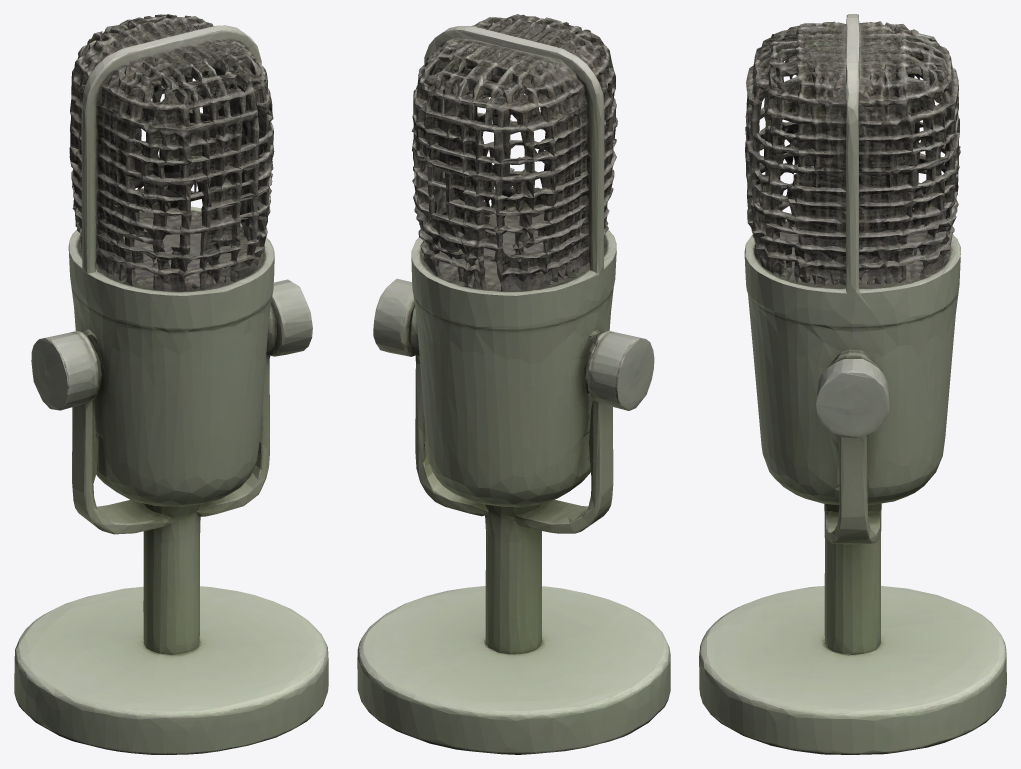
Rendered from mic.glb.
3 views of the same model, side by side, from view 1: azimuth 30°, elevation 25°; view 2: azimuth 150°, elevation 25°; view 3: azimuth 270°, elevation 25° (orthographic).
Parts seen in each view (by area): view 1: geometry_0; view 2: geometry_0; view 3: geometry_0.
Boxes of the visible parts, x1,y1,x2,y2 form: geometry_0: (14,14,328,754); geometry_0: (357,14,670,754); geometry_0: (699,14,1006,754).
Bounding box in the file's own units: 0.4351 × 0.9999 × 0.4286.
1 material, 1 textured.
